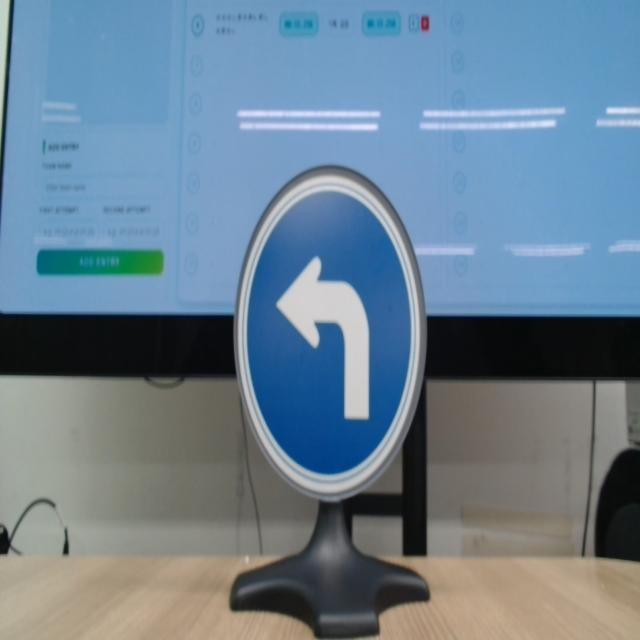left_direction: (229, 157, 434, 497)
